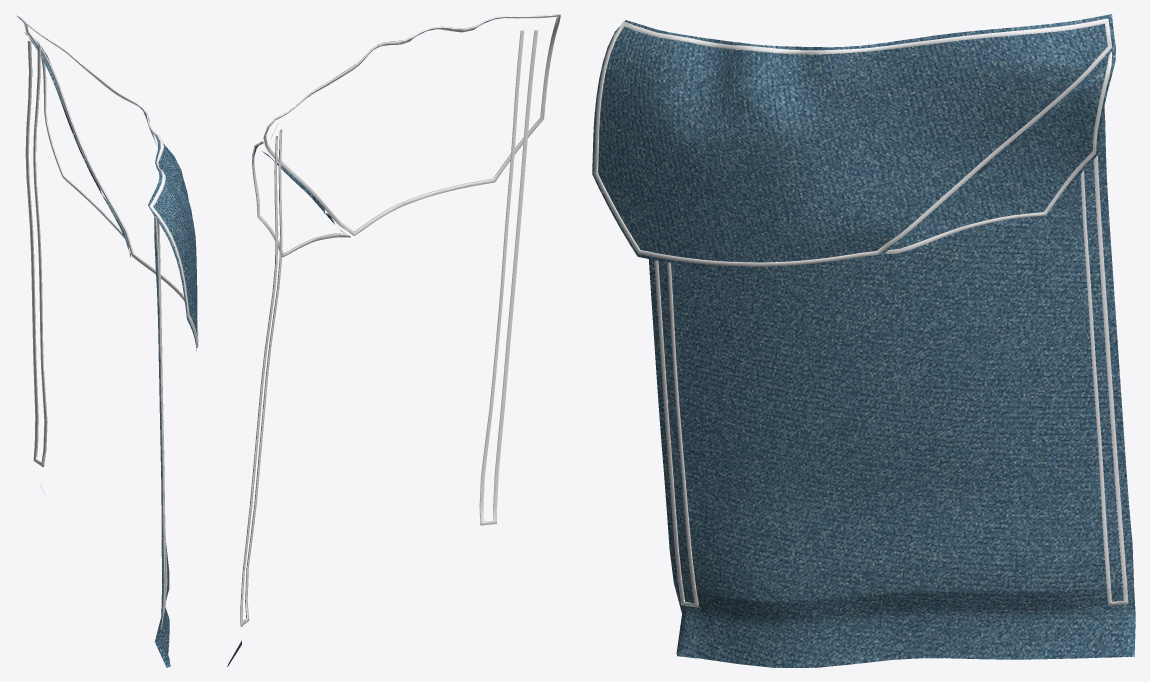
Rendered from Pants_Pocket_Right_V2.glb.
3 renders of one model, left to right at view 1: azimuth 30°, elevation 25°; view 2: azimuth 150°, elevation 25°; view 3: azimuth 270°, elevation 25°, orthographic. The views are drawn at different scales.
Parts seen in each view (by area): view 1: Pants_Rope_Pocket_RIght1.001, Pants_Pocket_RIght.001; view 2: Pants_Rope_Pocket_RIght1.001; view 3: Pants_Pocket_RIght.001, Pants_Rope_Pocket_RIght1.001.
Boxes of the visible parts, bbox=[...] form: Pants_Rope_Pocket_RIght1.001: bbox=[18, 16, 198, 629]; Pants_Pocket_RIght.001: bbox=[16, 15, 197, 667]; Pants_Rope_Pocket_RIght1.001: bbox=[240, 14, 560, 626]; Pants_Pocket_RIght.001: bbox=[592, 14, 1135, 667]; Pants_Rope_Pocket_RIght1.001: bbox=[594, 18, 1128, 607].
Bounding box in the file's own units: 0.0602 × 0.3055 × 0.2304.
2 materials, 2 textured.
